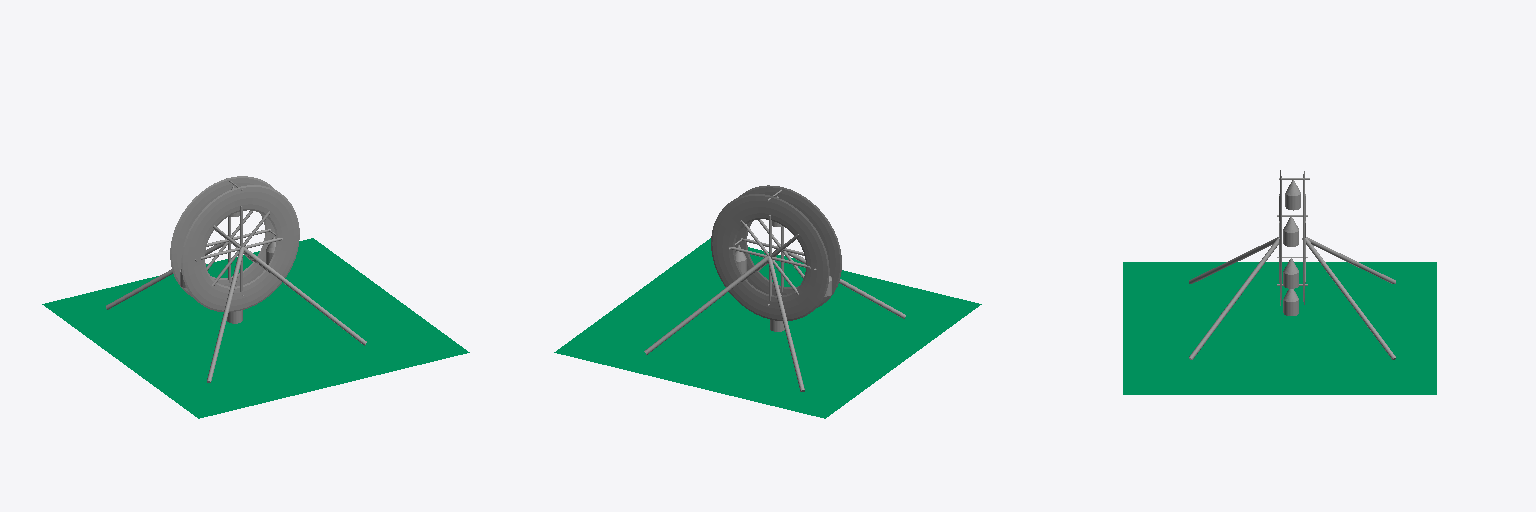
The model's file is RuedaFortuna.obj.
The picture shows the model from 3 angles: view 1: azimuth 30°, elevation 25°; view 2: azimuth 150°, elevation 25°; view 3: azimuth 270°, elevation 25°; orthographic projection.
Parts seen in each view (by area): view 1: Wheel.007_Cylinder.012, Wheel.008_Cylinder.013, Cylinder.005_Cylinder.019; view 2: Wheel.007_Cylinder.012, Wheel.008_Cylinder.013, Cylinder.005_Cylinder.019; view 3: Wheel.007_Cylinder.012, Cylinder.005_Cylinder.019, Cylinder.002_Cylinder.023, Cylinder.006_Cylinder.020.
Part boxes in pixels (bbox=[...]): Wheel.007_Cylinder.012: bbox=[42, 238, 469, 418]; Wheel.008_Cylinder.013: bbox=[170, 176, 299, 311]; Cylinder.005_Cylinder.019: bbox=[106, 178, 366, 382]; Wheel.007_Cylinder.012: bbox=[554, 238, 981, 418]; Wheel.008_Cylinder.013: bbox=[711, 185, 841, 320]; Cylinder.005_Cylinder.019: bbox=[644, 189, 905, 391]; Wheel.007_Cylinder.012: bbox=[1123, 262, 1436, 394]; Cylinder.005_Cylinder.019: bbox=[1189, 178, 1395, 359]; Cylinder.002_Cylinder.023: bbox=[1283, 193, 1300, 315]; Cylinder.006_Cylinder.020: bbox=[1283, 180, 1300, 301].
Size of the model in its own units: 40 by 20.54 by 40.